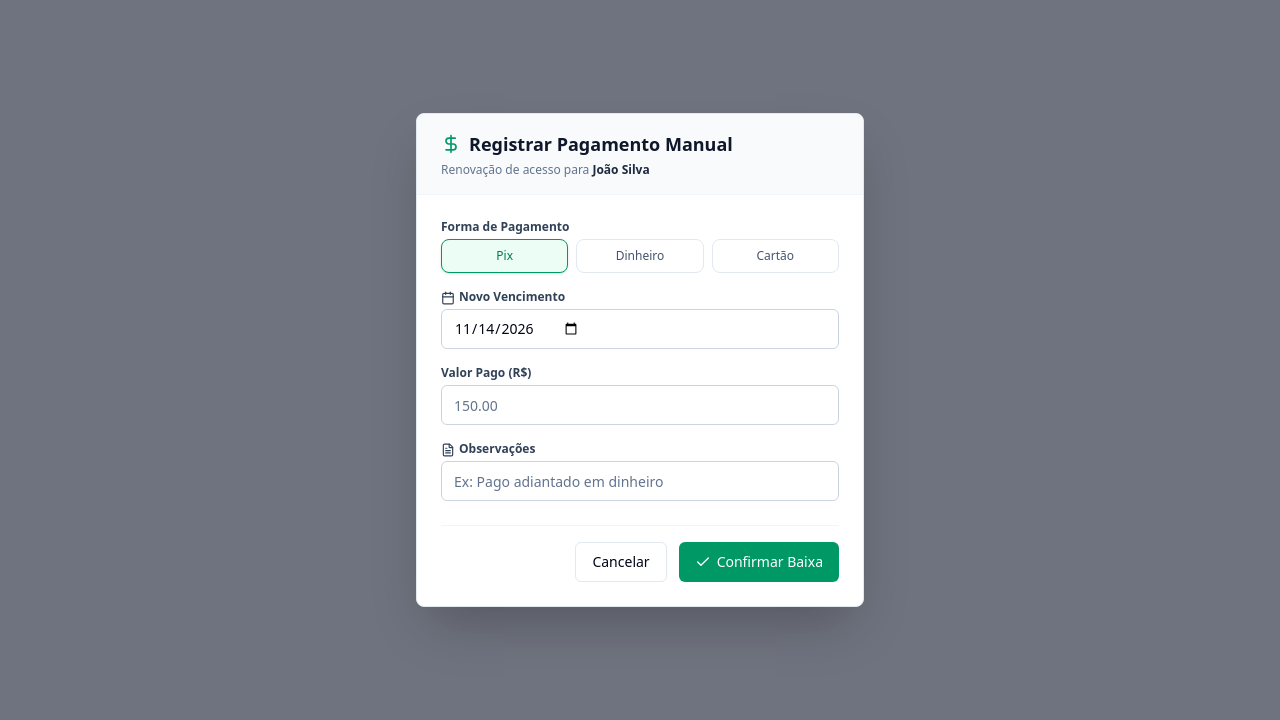
Test case: ManualPaymentModal › shows the failure and stays open when saving fails
Type "100" into the number field labelled "Valor Pago (R$)".
click(640, 405); type("100")  # box [441,385,839,425]
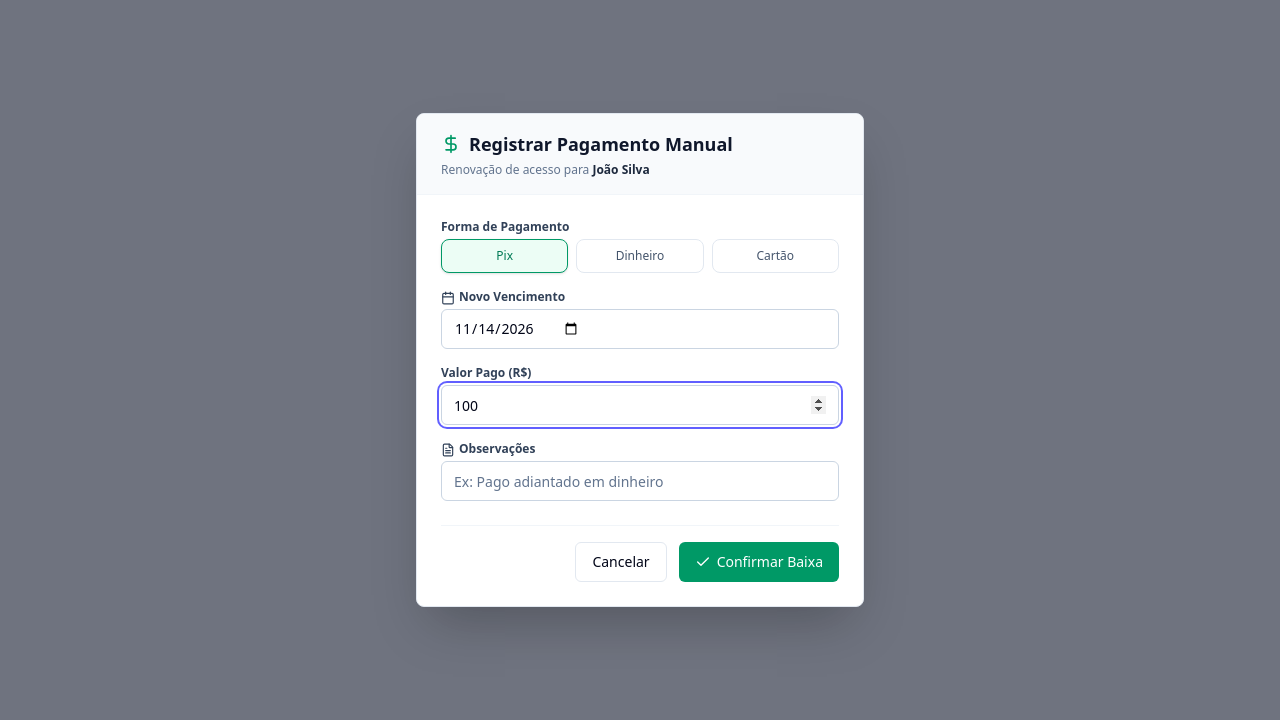
Click the button "Confirmar Baixa".
click(759, 562)  # box [679,542,839,582]
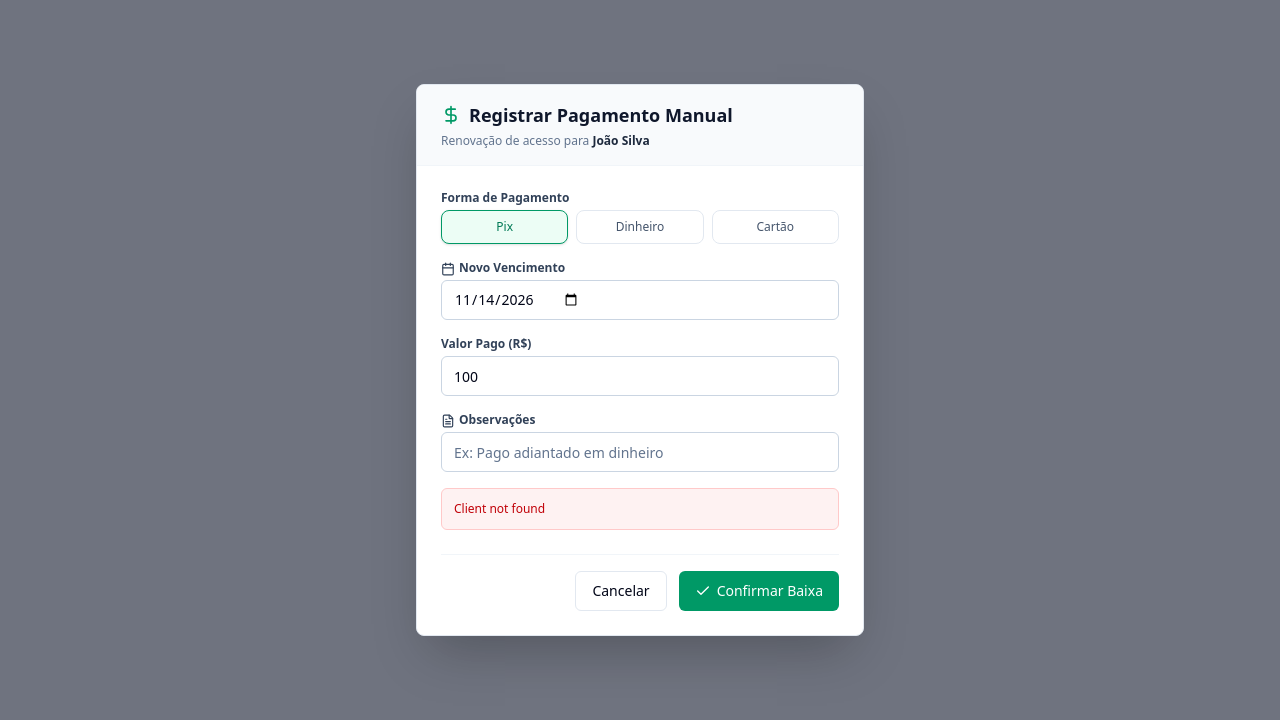
Check: the message reads "Client not found", box [454,500,545,517]
